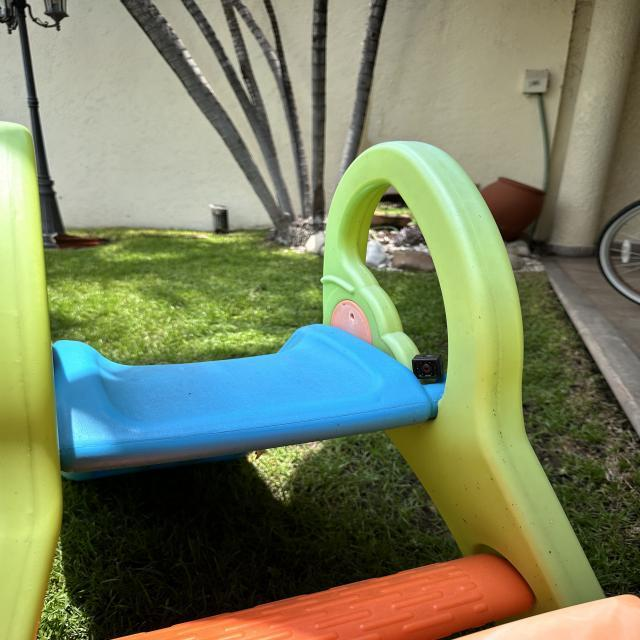hidden camera: (420, 364, 432, 373)
